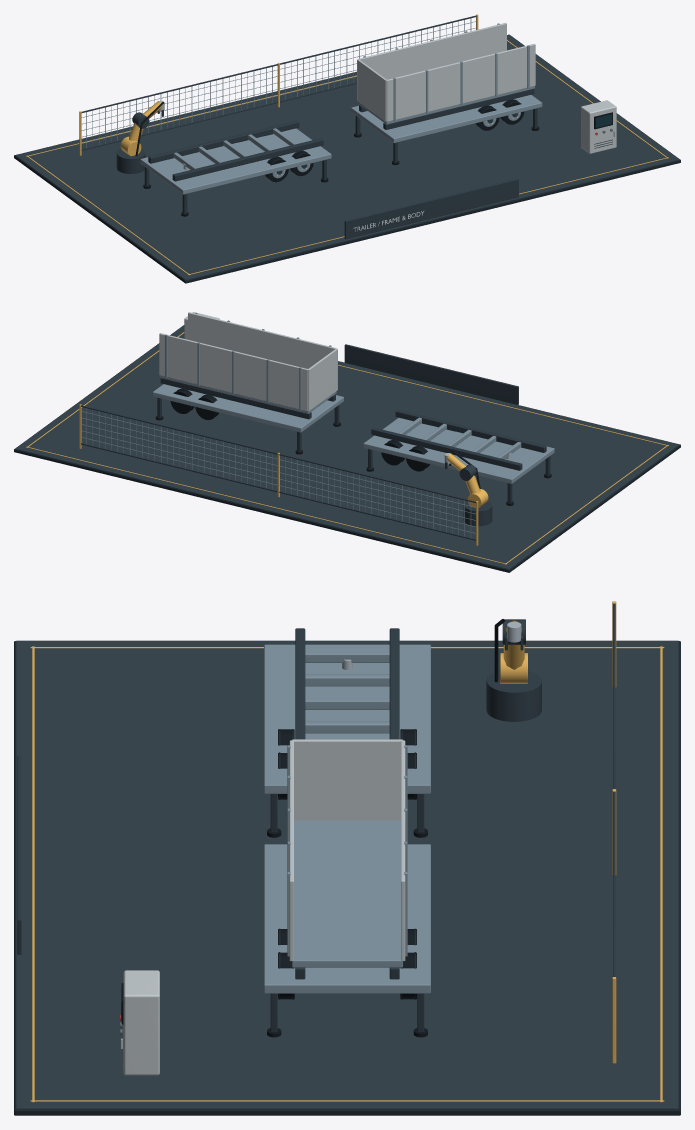
File: trailer-cell.glb
The picture shows the model from 3 angles, top to bottom: view 1: azimuth 30°, elevation 25°; view 2: azimuth 150°, elevation 25°; view 3: azimuth 270°, elevation 25°; orthographic projection. The views are drawn at different scales.
Visible parts, largest first — view 1: trailer_cell_Workshop_Epoxy, trailer_cell_Brushed_Aluminium, trailer_cell_Enamel_Pearl, trailer_cell_Enamel_Graphite, trailer_cell_Cast_Base, trailer_cell_Safety_Amber, trailer_cell_Rubber_Seal; view 2: trailer_cell_Workshop_Epoxy, trailer_cell_Brushed_Aluminium, trailer_cell_Enamel_Pearl, trailer_cell_Enamel_Graphite, trailer_cell_Cast_Base, trailer_cell_Safety_Amber, trailer_cell_Rubber_Seal; view 3: trailer_cell_Workshop_Epoxy, trailer_cell_Brushed_Aluminium, trailer_cell_Enamel_Pearl, trailer_cell_Enamel_Graphite, trailer_cell_Cast_Base, trailer_cell_Safety_Amber, trailer_cell_Rubber_Seal.
Boxes of the visible parts, bbox=[...] form: trailer_cell_Workshop_Epoxy: bbox=[15, 34, 679, 279]; trailer_cell_Brushed_Aluminium: bbox=[81, 18, 542, 194]; trailer_cell_Enamel_Pearl: bbox=[357, 23, 616, 153]; trailer_cell_Enamel_Graphite: bbox=[81, 15, 612, 239]; trailer_cell_Cast_Base: bbox=[14, 34, 680, 283]; trailer_cell_Safety_Amber: bbox=[26, 14, 668, 275]; trailer_cell_Rubber_Seal: bbox=[135, 99, 612, 216]; trailer_cell_Workshop_Epoxy: bbox=[15, 325, 679, 569]; trailer_cell_Brushed_Aluminium: bbox=[81, 312, 554, 537]; trailer_cell_Enamel_Pearl: bbox=[159, 312, 337, 411]; trailer_cell_Enamel_Graphite: bbox=[81, 344, 550, 540]; trailer_cell_Cast_Base: bbox=[14, 325, 680, 572]; trailer_cell_Safety_Amber: bbox=[26, 332, 668, 564]; trailer_cell_Rubber_Seal: bbox=[155, 389, 551, 505]; trailer_cell_Workshop_Epoxy: bbox=[16, 640, 678, 1109]; trailer_cell_Brushed_Aluminium: bbox=[264, 644, 430, 993]; trailer_cell_Enamel_Pearl: bbox=[123, 739, 405, 1075]; trailer_cell_Enamel_Graphite: bbox=[17, 604, 615, 1061]; trailer_cell_Cast_Base: bbox=[14, 641, 680, 1115]; trailer_cell_Safety_Amber: bbox=[30, 601, 664, 1102]; trailer_cell_Rubber_Seal: bbox=[121, 619, 504, 1037].
Size of the model in its own units: 20 by 3.29 by 12.
